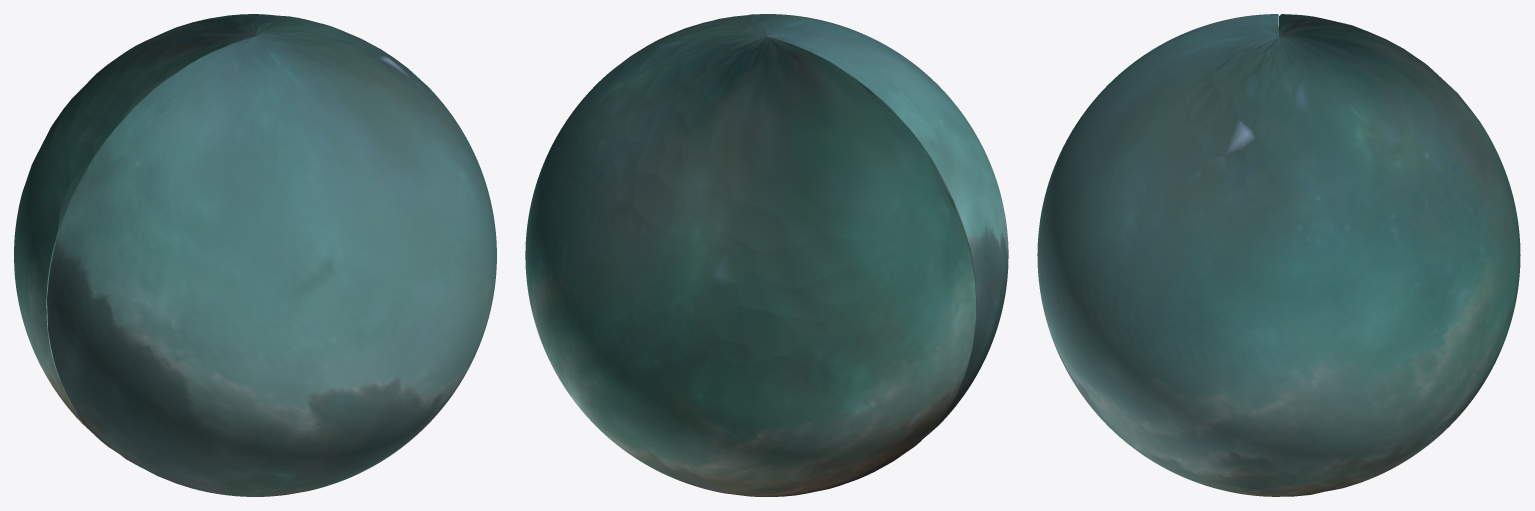
File: dome.glb
The picture shows the model from 3 angles, left to right: view 1: azimuth 30°, elevation 25°; view 2: azimuth 150°, elevation 25°; view 3: azimuth 270°, elevation 25°; orthographic projection.
Size of the model in its own units: 2 by 2 by 2.
